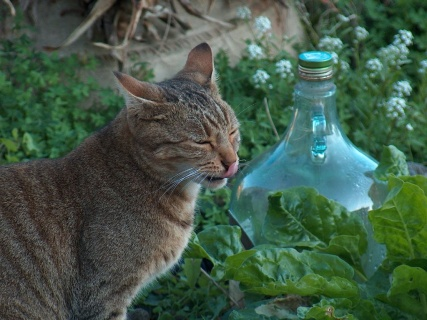Cat: (0, 40, 260, 319)
